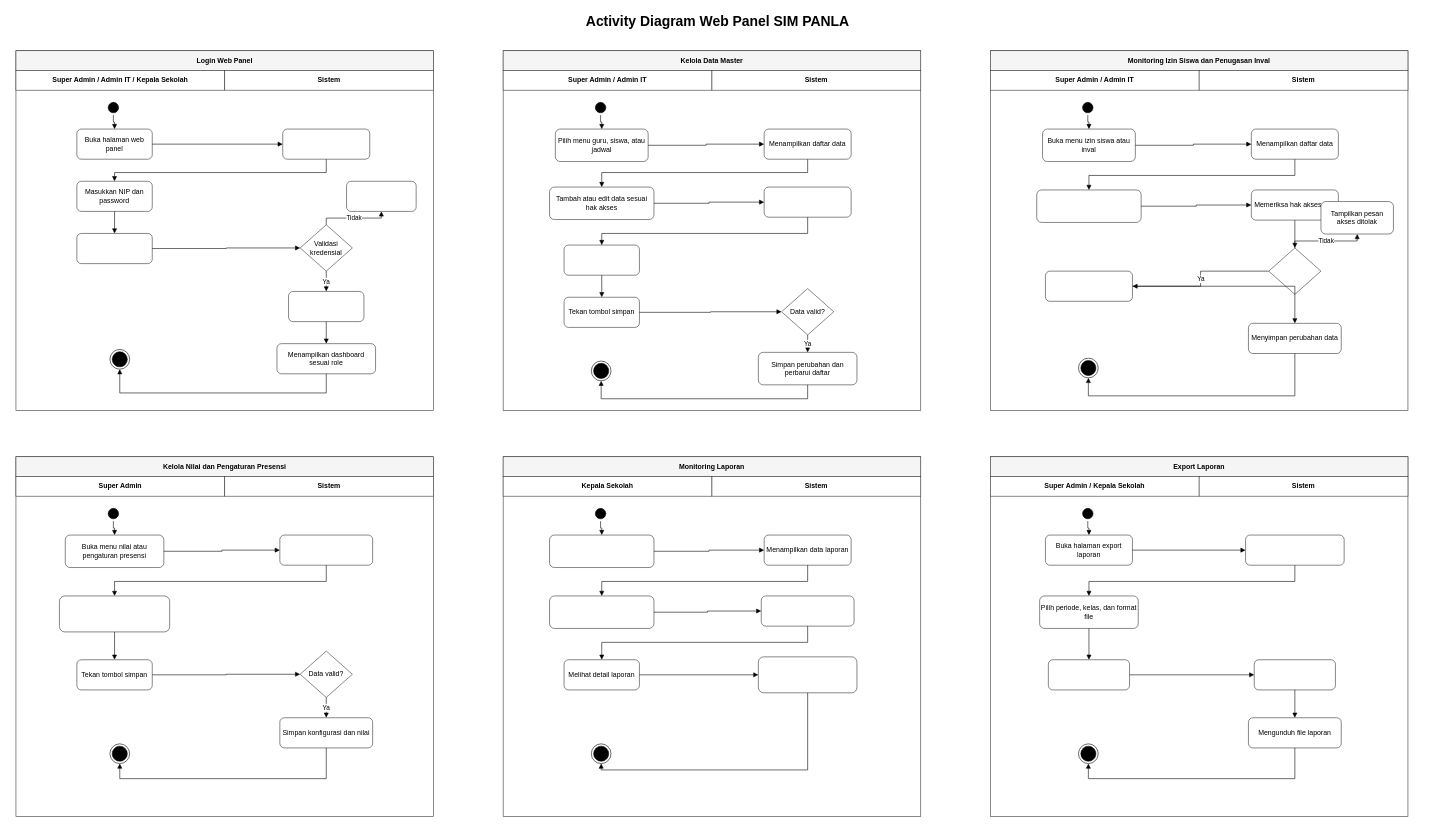
Some shapes in this 1435 by 827 pixel diagram are drawn without their labels. Here are the shapes that lost their labels. From the top down, the centre of each, then its label:
At [326,143]: "Menampilkan form login".
At [381,196]: "Menampilkan pesan error".
At [807,201]: "Menampilkan form data".
At [1088,205]: "Pilih detail, edit, atau hapus data".
At [114,248]: "Tekan tombol masuk".
At [601,259]: "Isi atau ubah data".
At [1088,286]: "Konfirmasi perubahan".
At [1294,270]: "Akses diizinkan?".
At [326,306]: "Cek role pengguna".
At [326,549]: "Menampilkan form pengelolaan".
At [601,551]: "Buka menu laporan jurnal atau kehadiran".
At [1294,549]: "Menampilkan pilihan jenis laporan".
At [114,613]: "Isi kategori, periode, nilai, atau radius presensi".
At [601,611]: "Pilih filter tanggal, kelas, atau guru".
At [807,610]: "Memuat laporan sesuai filter".
At [807,674]: "Menampilkan ringkasan dan detail laporan".
At [1089,674]: "Tekan tombol export".
At [1294,674]: "Membuat file laporan".
